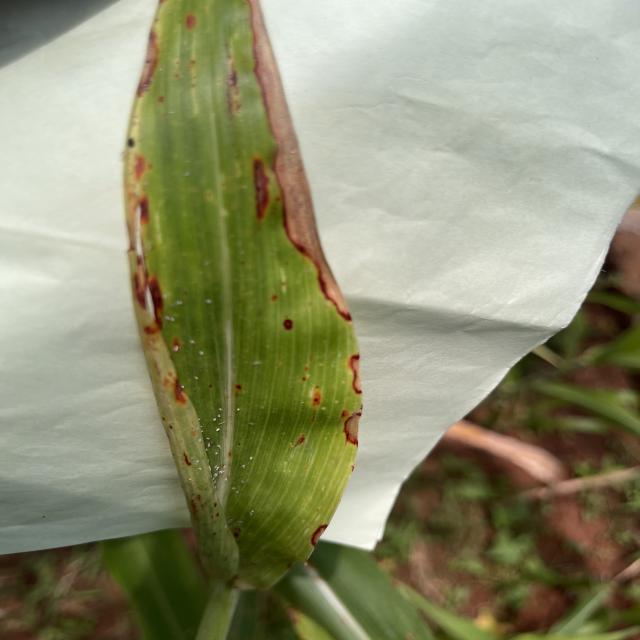millet_rust: (121, 0, 370, 600)
